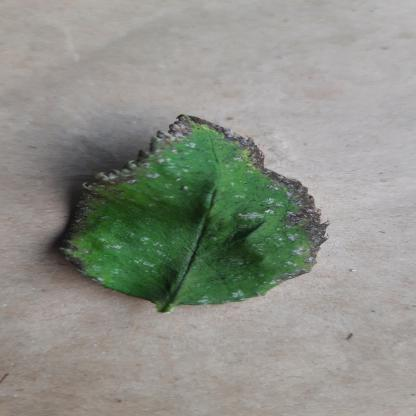powdery-mildew: (51, 113, 335, 306)
